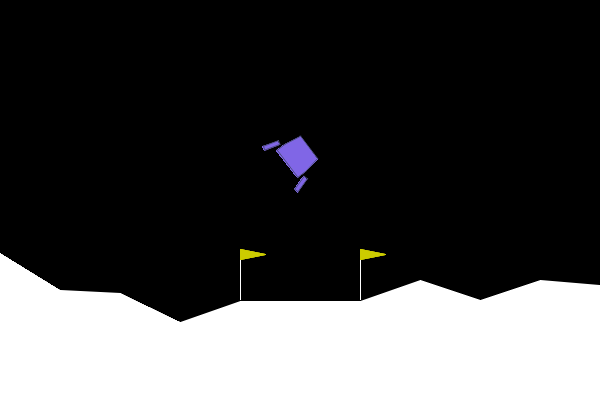lander: (260, 123, 328, 195)
